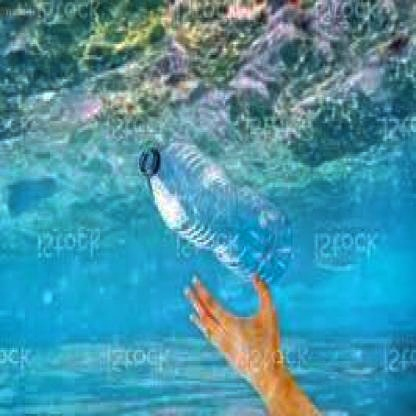pbottle: (133, 130, 299, 286)
